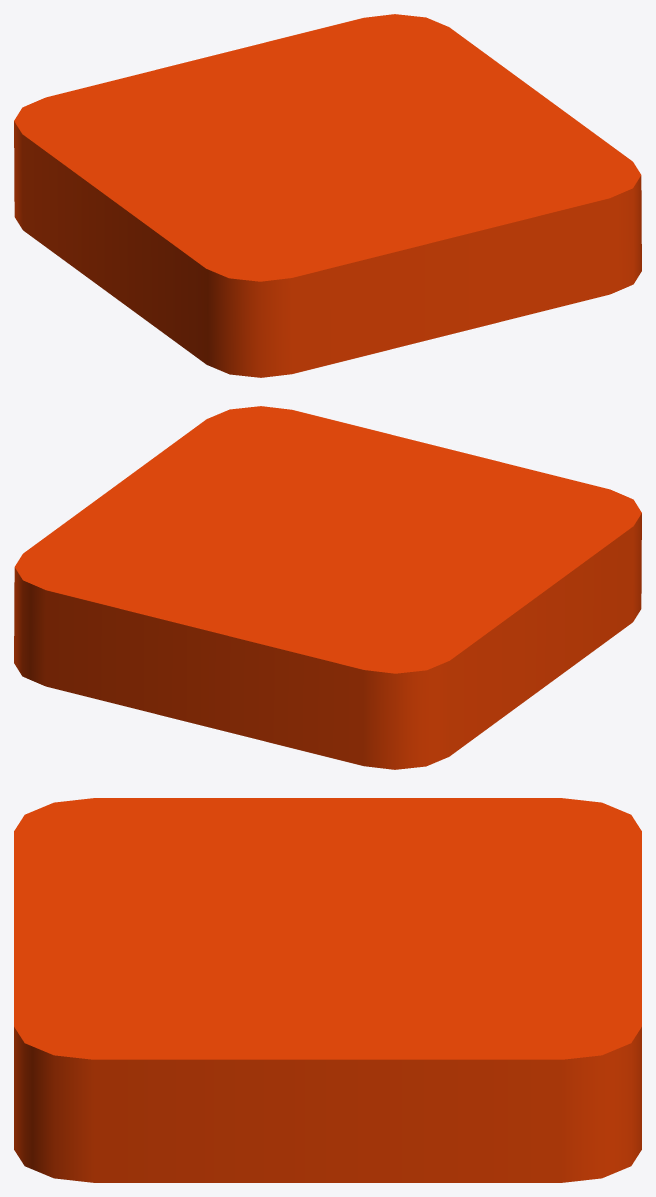
3 renders of one model, top to bottom at view 1: azimuth 30°, elevation 25°; view 2: azimuth 150°, elevation 25°; view 3: azimuth 270°, elevation 25°, orthographic. The views are drawn at different scales.
Visible parts, largest first — view 1: lv1_a1; view 2: lv1_a1; view 3: lv1_a1.
Boxes of the visible parts, x1,y1,x2,y2 form: lv1_a1: [14, 14, 641, 377]; lv1_a1: [14, 406, 641, 769]; lv1_a1: [14, 798, 641, 1182].
Bounding box in the file's own units: 391 × 86.73 × 391.
